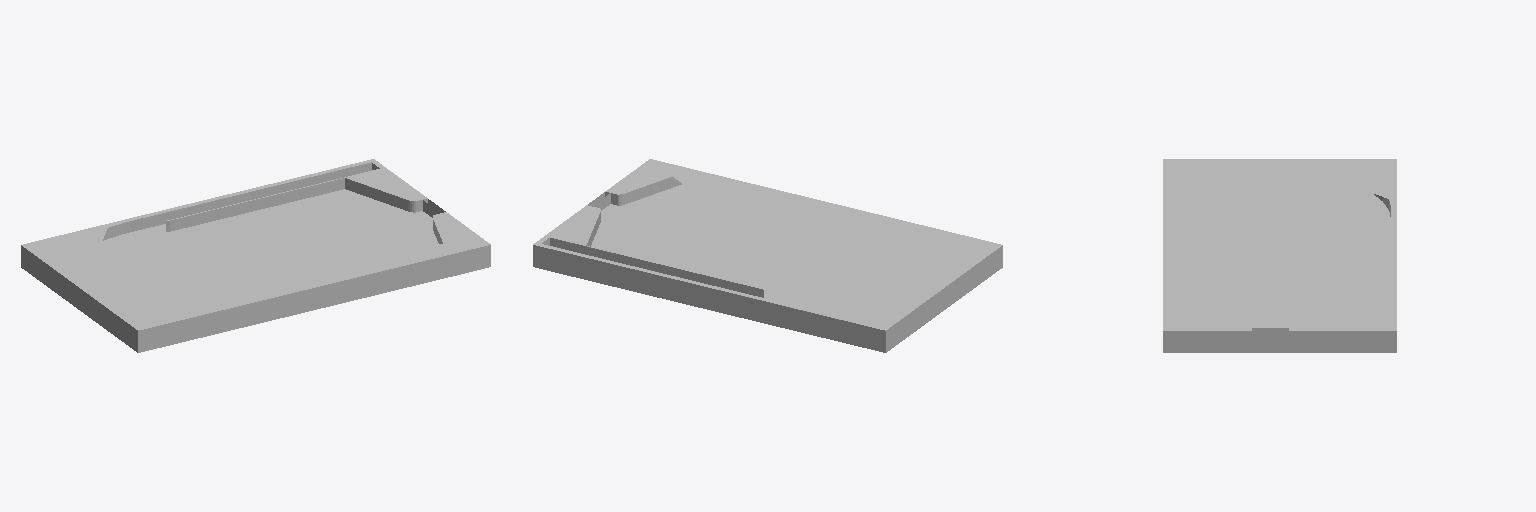
Rendered from full_board.obj.
The picture shows the model from 3 angles: view 1: azimuth 30°, elevation 25°; view 2: azimuth 150°, elevation 25°; view 3: azimuth 270°, elevation 25°; orthographic projection.
Parts seen in each view (by area): view 1: Cube.005, Plane, Cube.001, Cube.002, Plane.001; view 2: Cube.005, Plane, Cube.001, Cube.002, Plane.001; view 3: Cube.005, Plane, Cube.001, Cube.002.
Part boxes in pixels (left/top/right/bottom): Cube.005: left=21, top=159, right=490, bottom=352; Plane: left=101, top=189, right=438, bottom=245; Cube.001: left=31, top=222, right=229, bottom=326; Cube.002: left=345, top=169, right=481, bottom=251; Plane.001: left=166, top=169, right=378, bottom=231; Cube.005: left=533, top=159, right=1002, bottom=352; Plane: left=591, top=184, right=845, bottom=307; Cube.001: left=790, top=223, right=991, bottom=326; Cube.002: left=551, top=162, right=686, bottom=246; Plane.001: left=550, top=237, right=763, bottom=297; Cube.005: left=1163, top=159, right=1396, bottom=352; Plane: left=1189, top=188, right=1390, bottom=327; Cube.001: left=1170, top=161, right=1390, bottom=216; Cube.002: left=1169, top=311, right=1372, bottom=327.
Size of the model in its own units: 6.6 by 0.4 by 3.8.